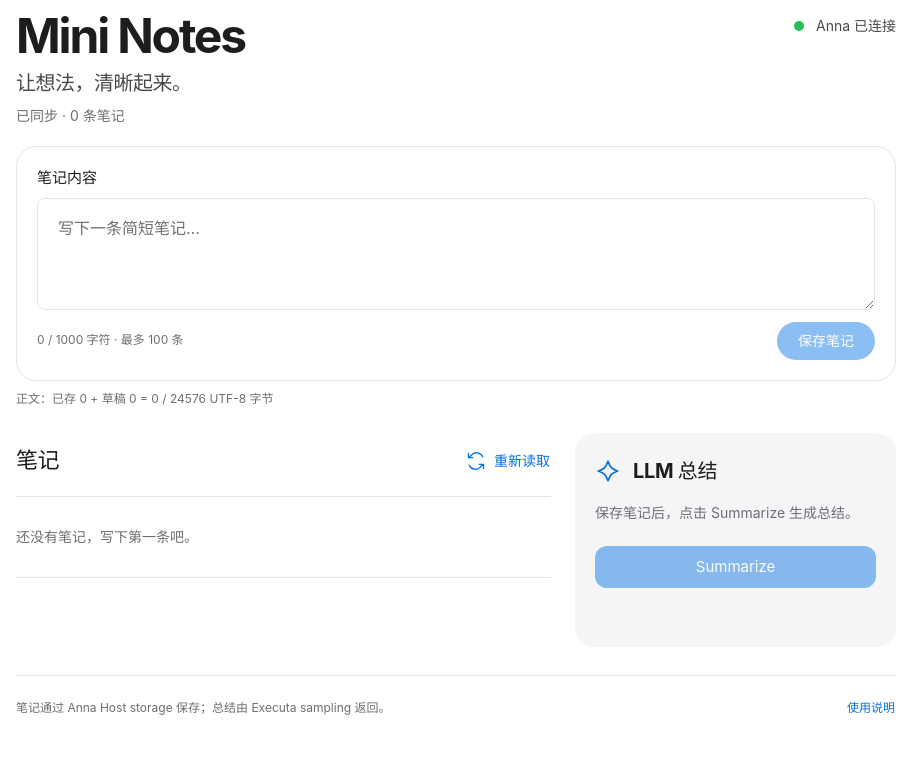
Scenario: Mini Notes application › keeps notes usable while the separate guide preference cannot be read
Expected: the button "重新读取" is enabled, [457, 442, 551, 478]
Expected: the button "使用说明" is enabled, [846, 692, 896, 724]
Type "笔记不受引导失败影响" into the text box labelled "笔记内容" at (456, 254), box [37, 198, 875, 310]
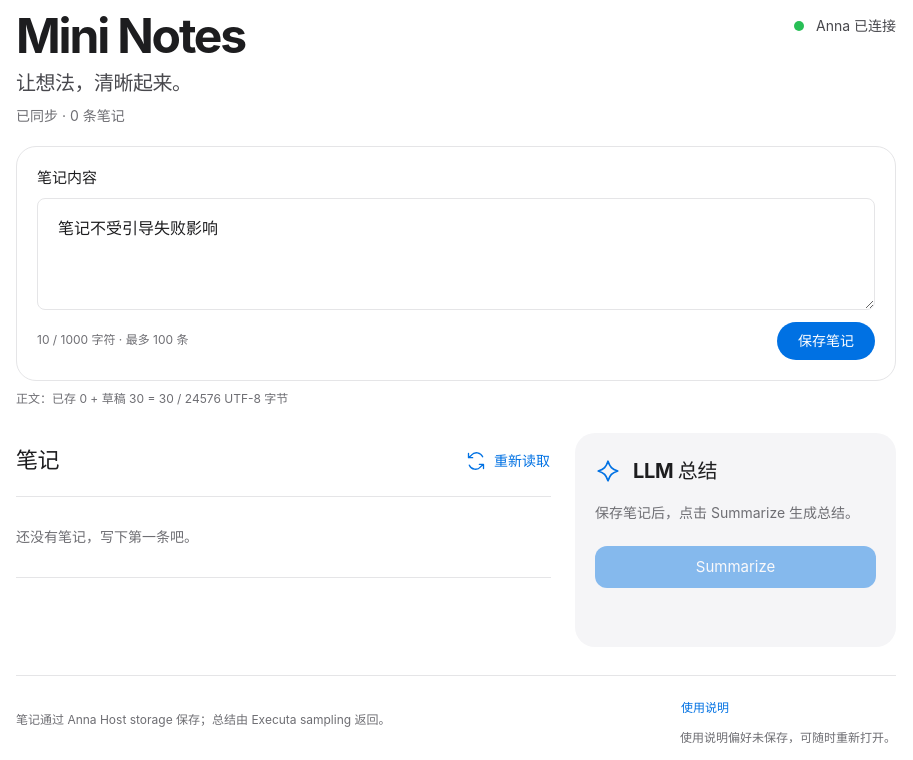
Click the button "保存笔记" at (826, 341), box [777, 322, 875, 360]
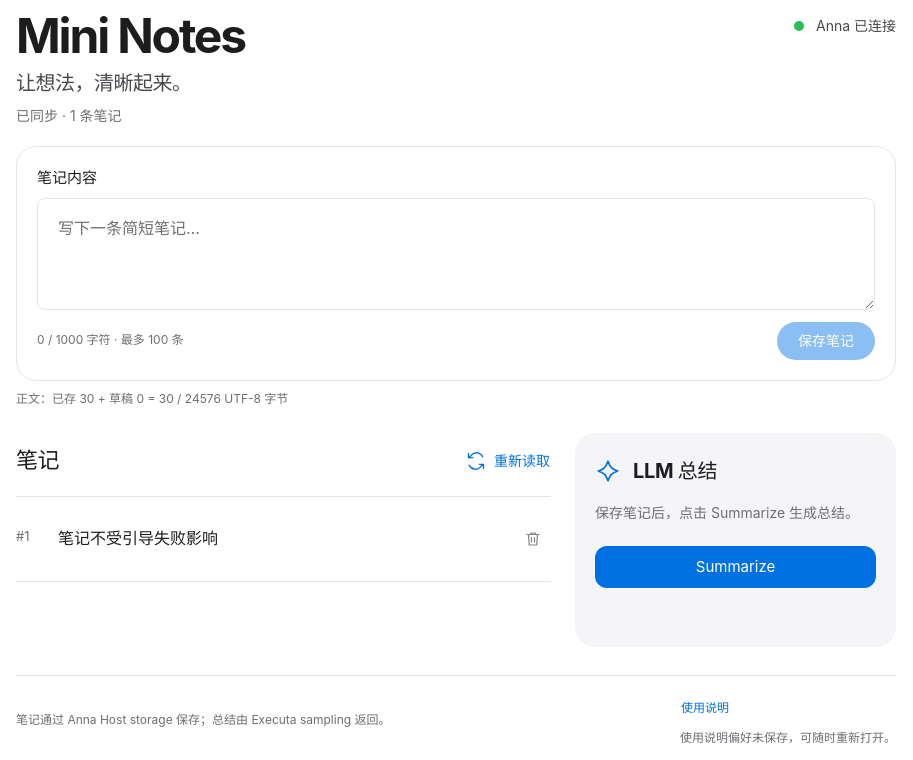
Now the list item with test id "note-1" shows "笔记不受引导失败影响", box [58, 528, 218, 548]
Now the button "Summarize" is enabled, box [595, 546, 876, 588]
